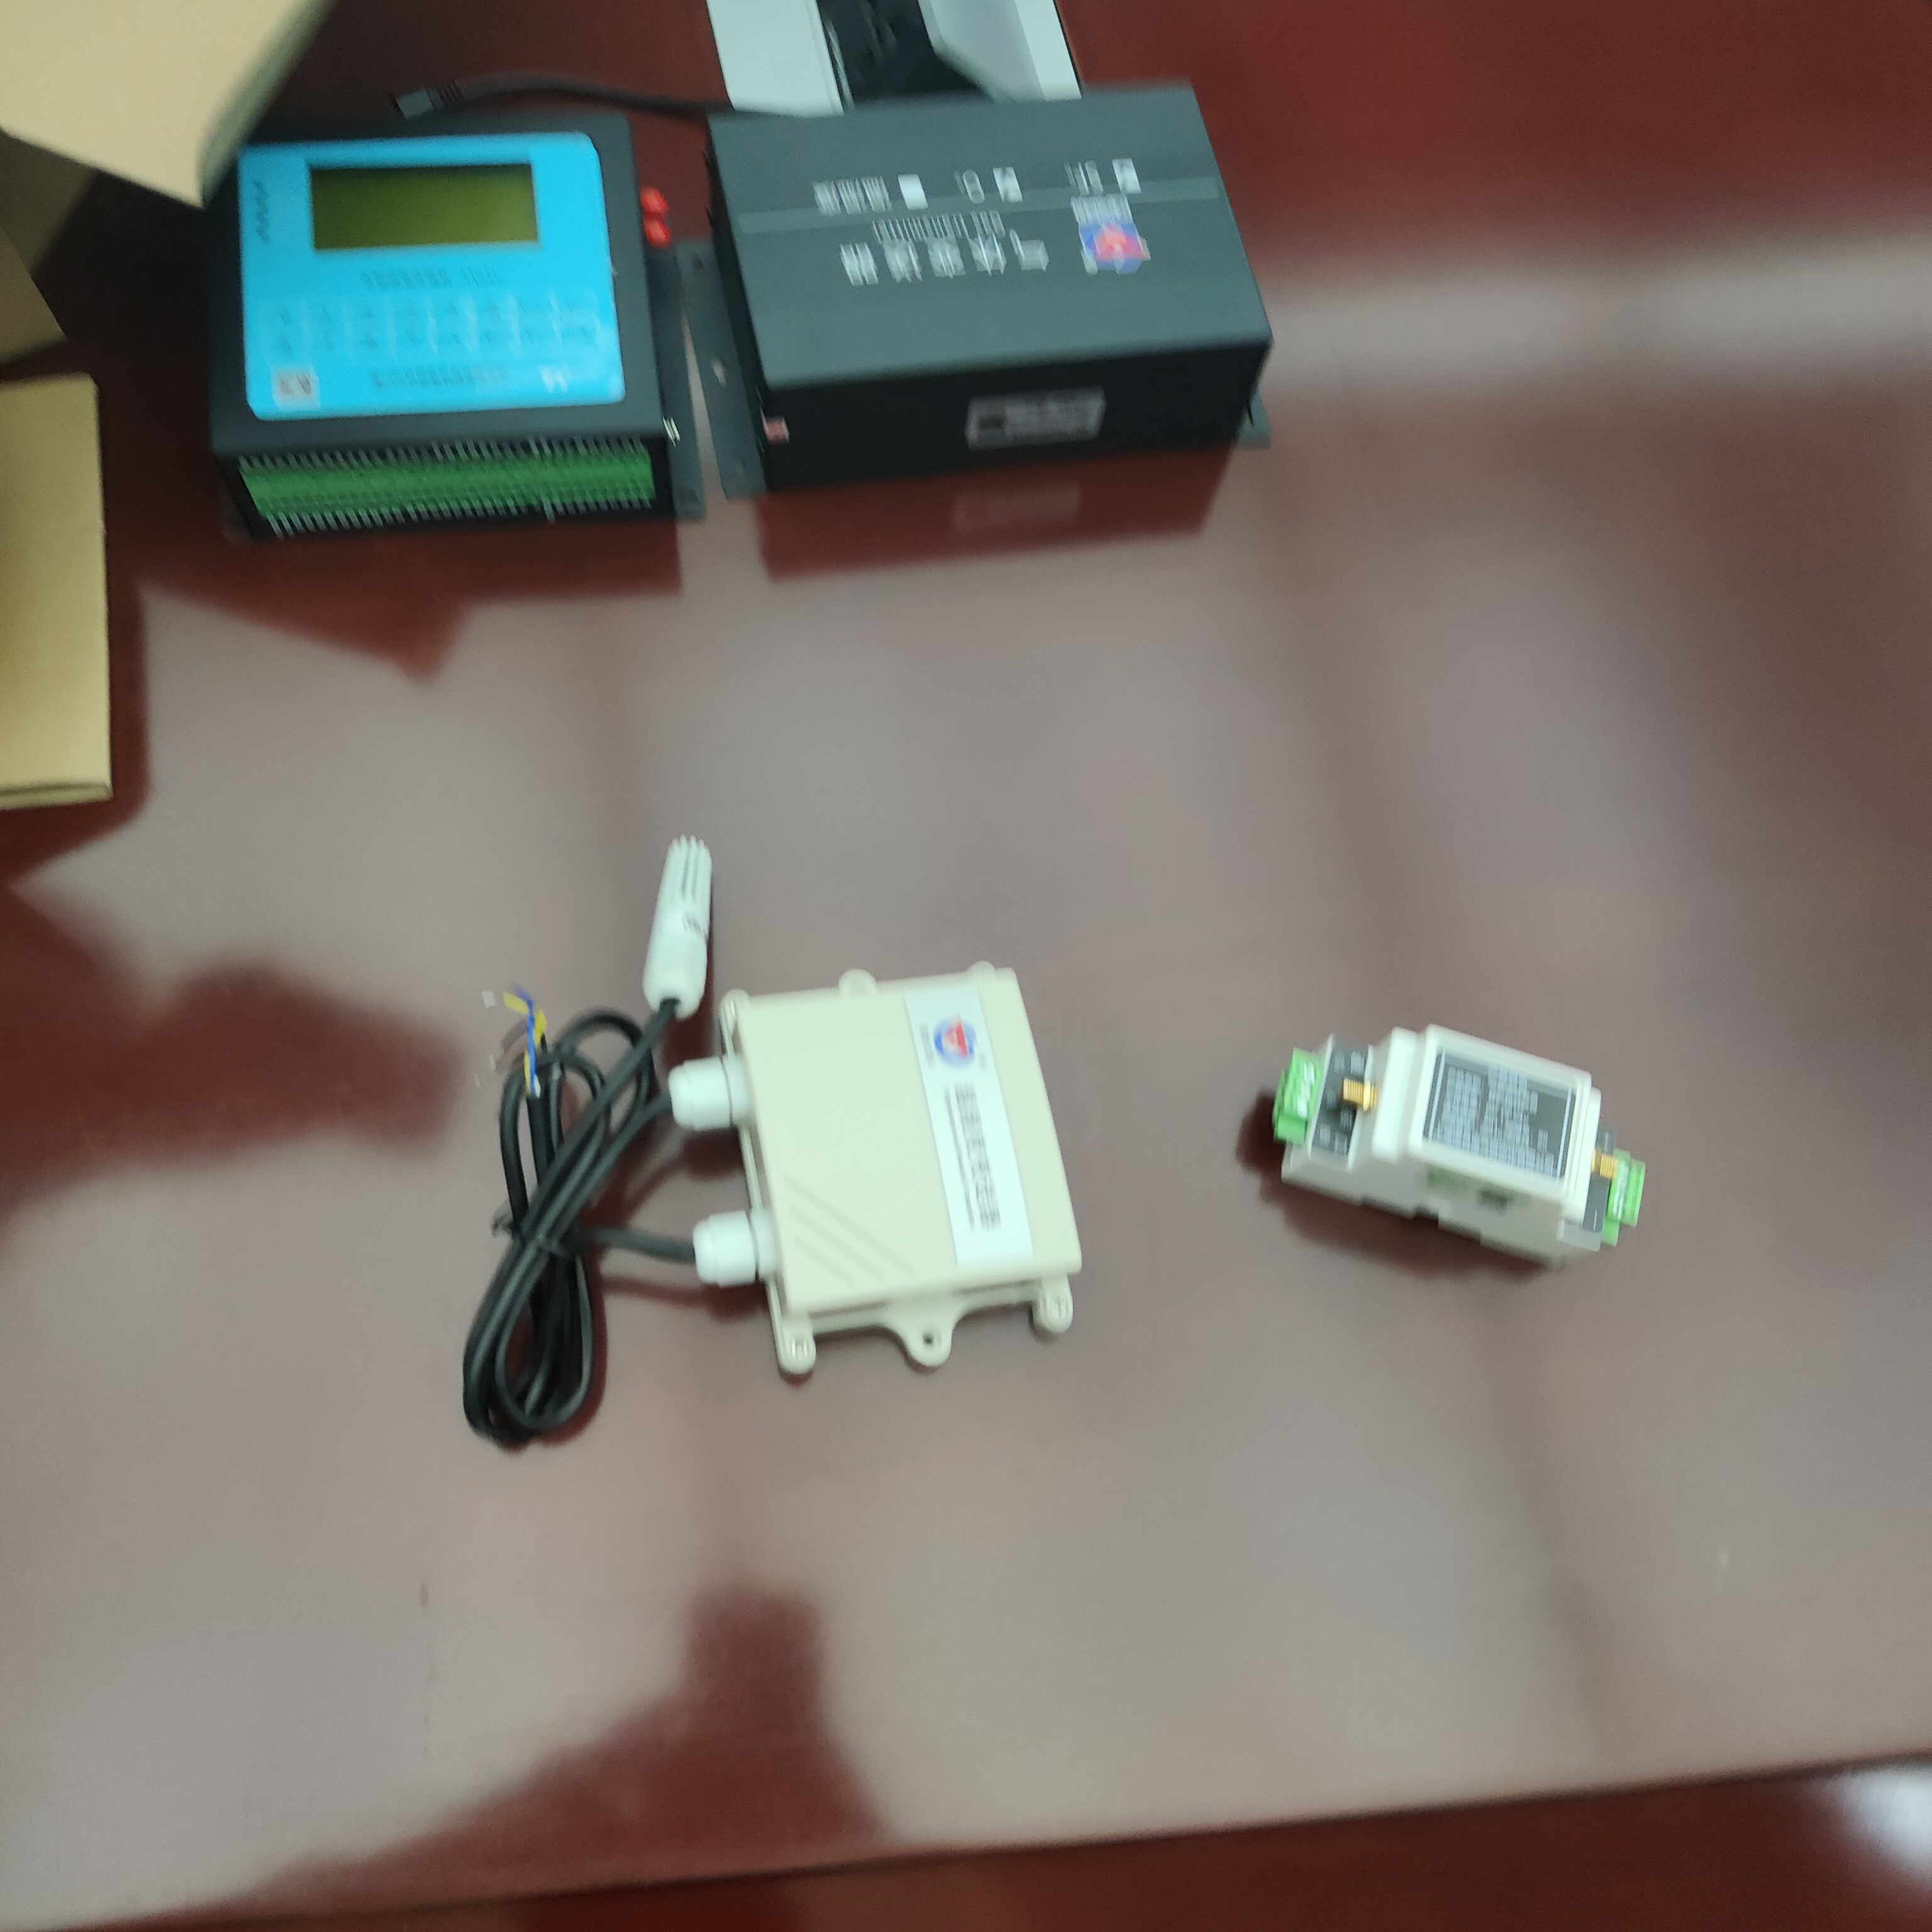dgjs: (1251, 993, 1675, 1306)
qtbsq: (694, 88, 1306, 502)
slyczd: (179, 111, 697, 587)
wsdbsq: (697, 954, 1123, 1387)
